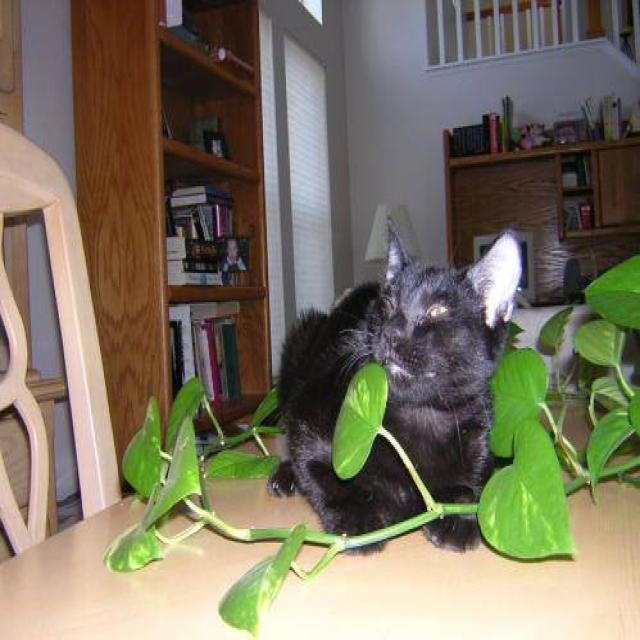cat: (266, 215, 524, 555)
